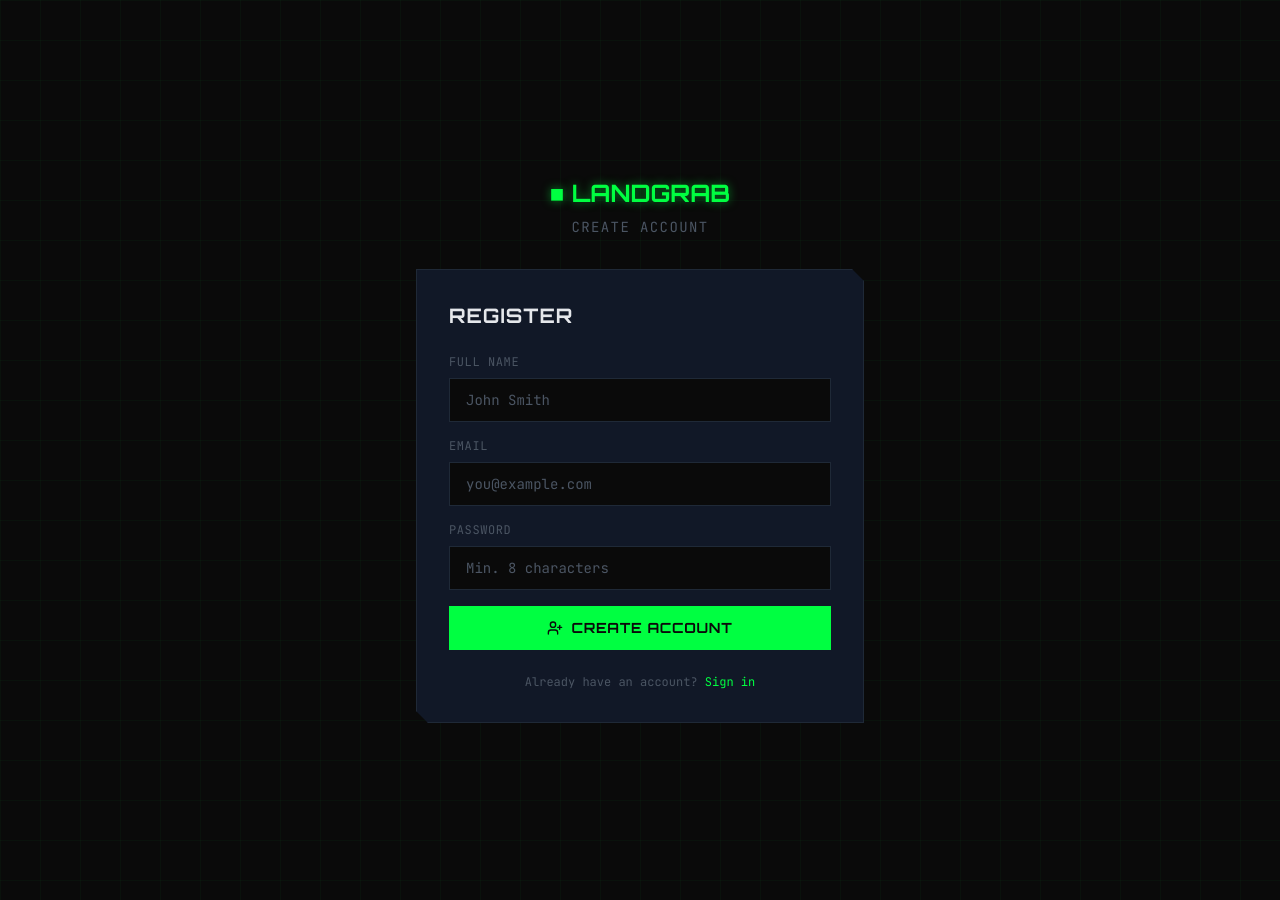
Test: RegisterPage › shows a conflict error for a duplicate email
Type "Jane Doe" into the field with placeholder "John Smith" at [640, 400], box [449,378,831,422]
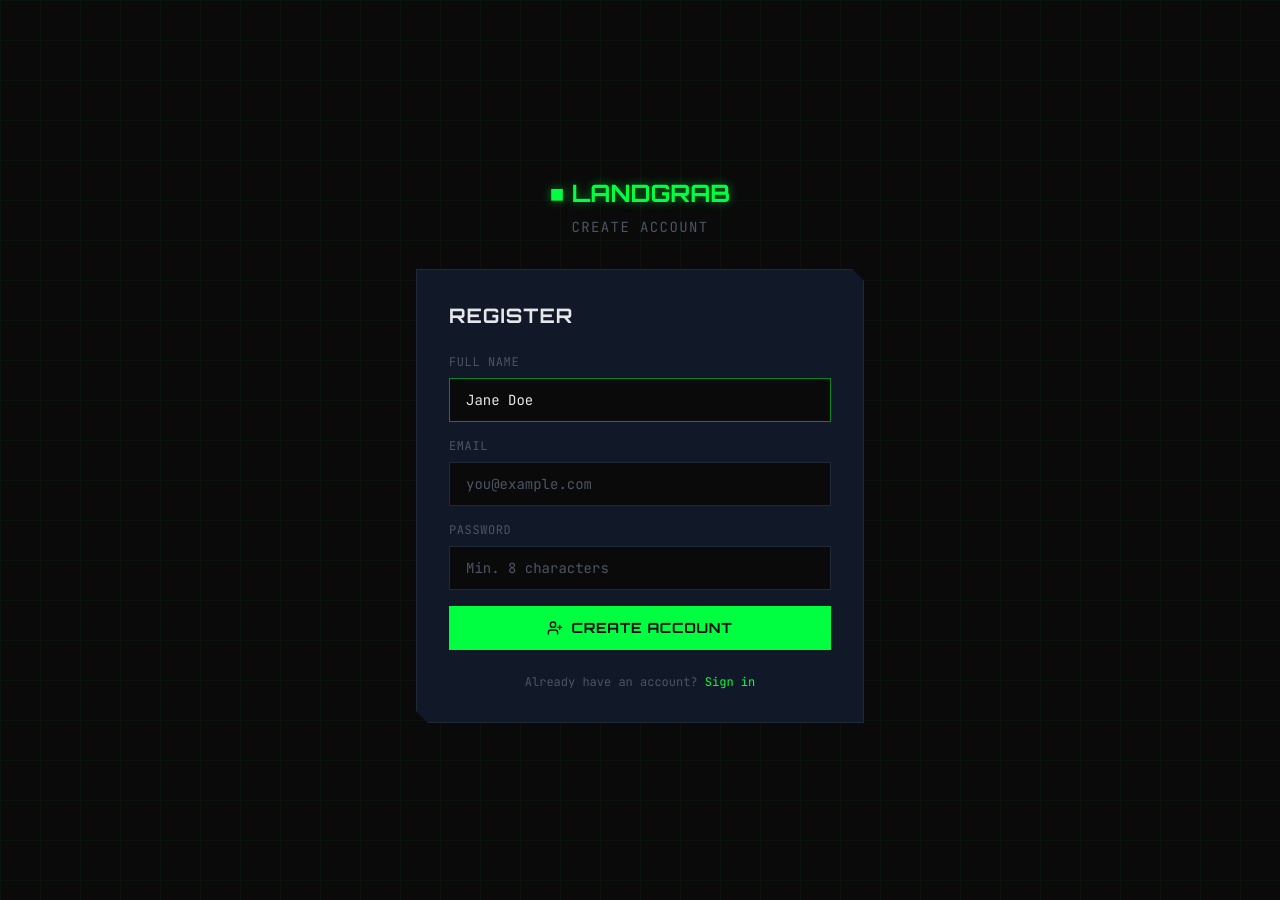
Type "dup@example.com" into the field with placeholder "you@example.com" at [640, 484], box [449,462,831,506]
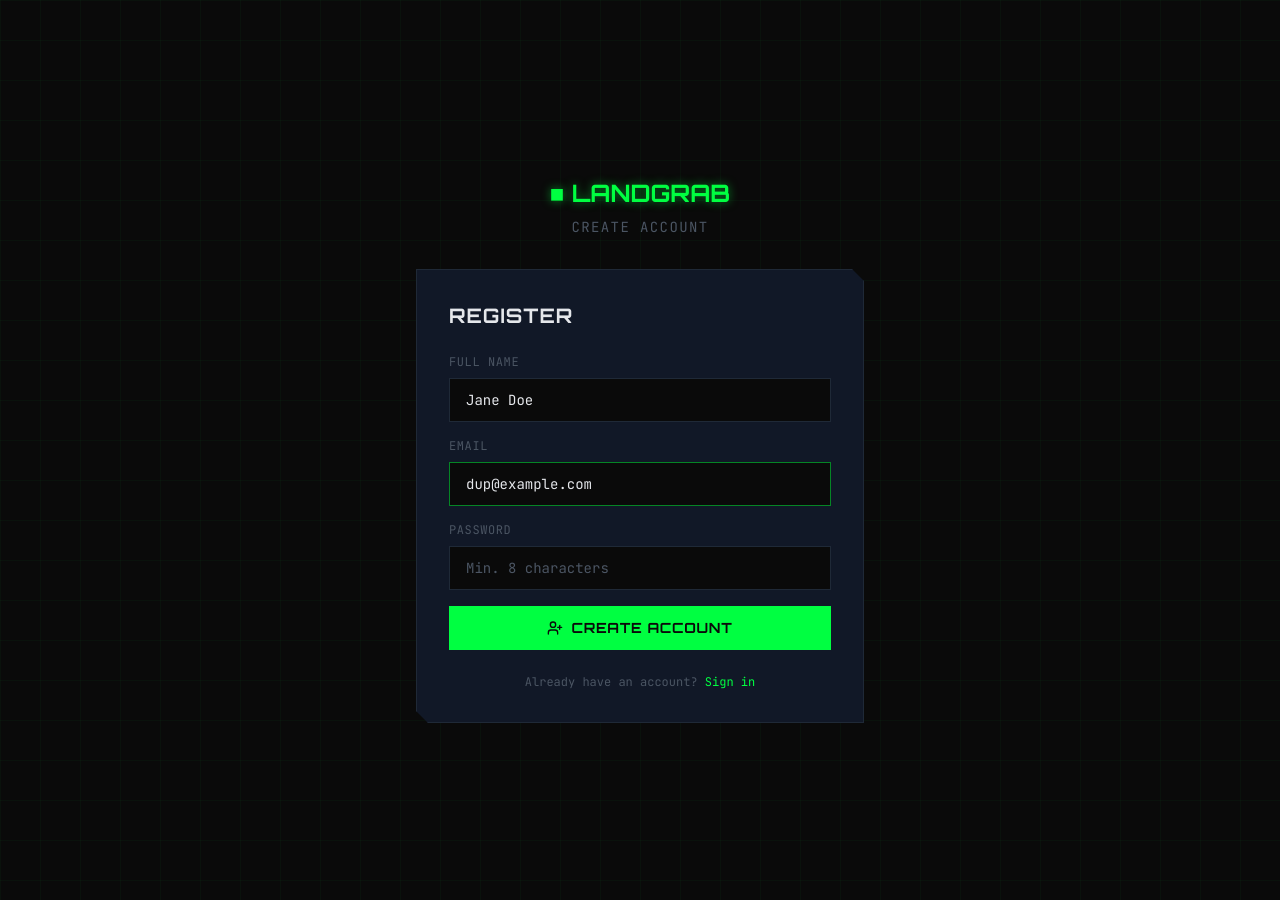
Type "password123" into the password field with placeholder "Min. 8 characters" at [640, 568], box [449,546,831,590]
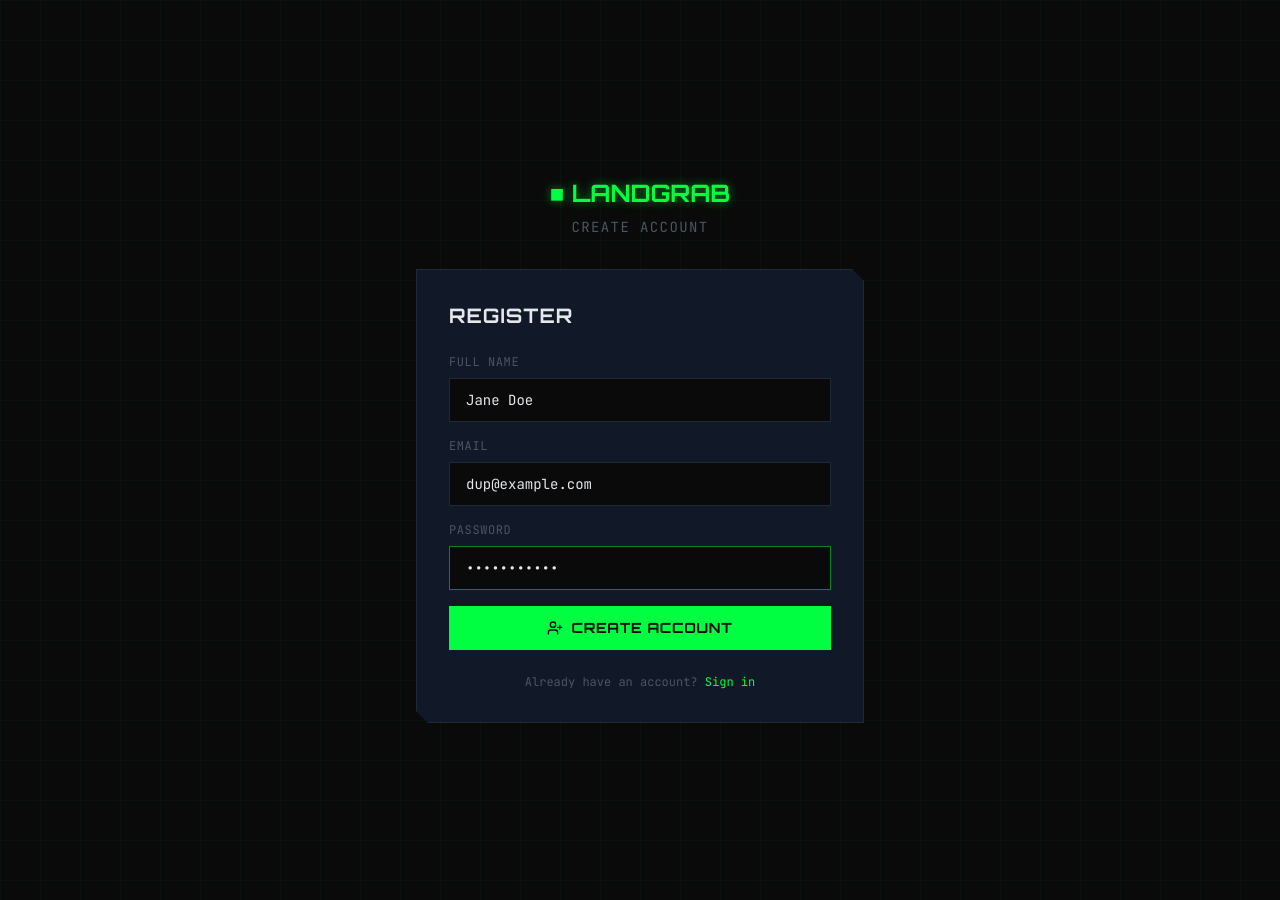
Click the button "Create Account" at [640, 628], box [449,606,831,650]
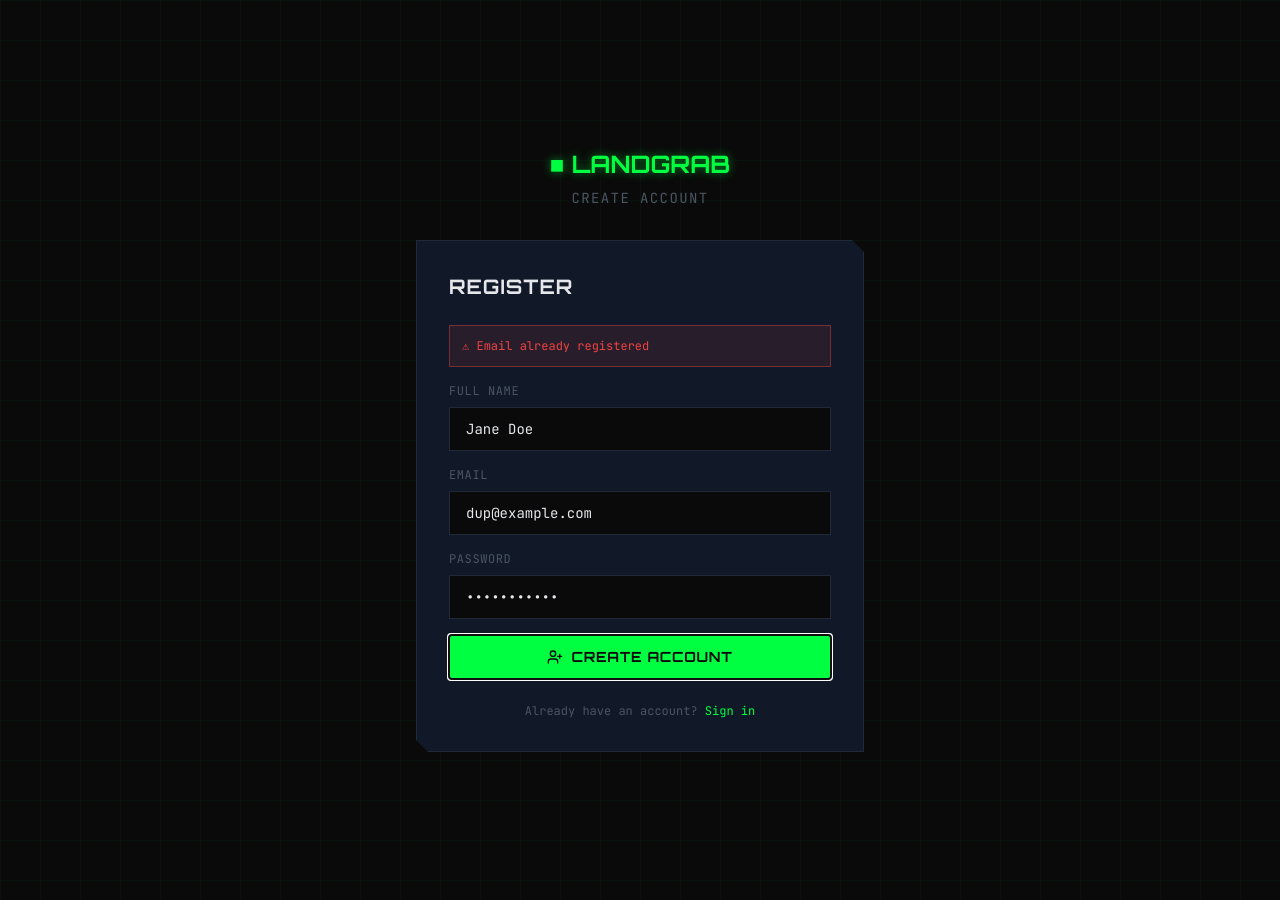
Check: the text "⚠ Email already registered" is shown, box [449,325,831,367]
